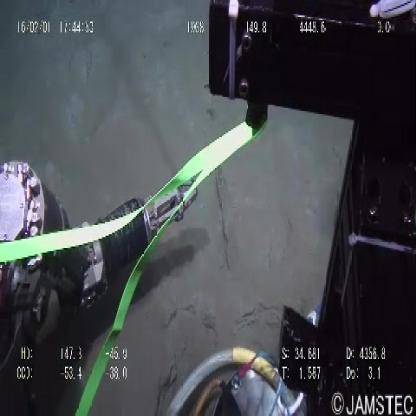Rov: (205, 1, 416, 412), (1, 153, 202, 362)
